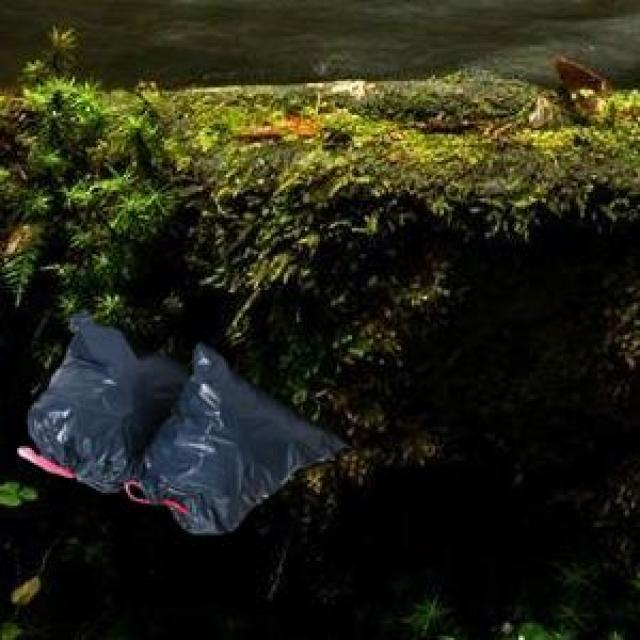miscellaneous trash: (15, 305, 344, 529)
